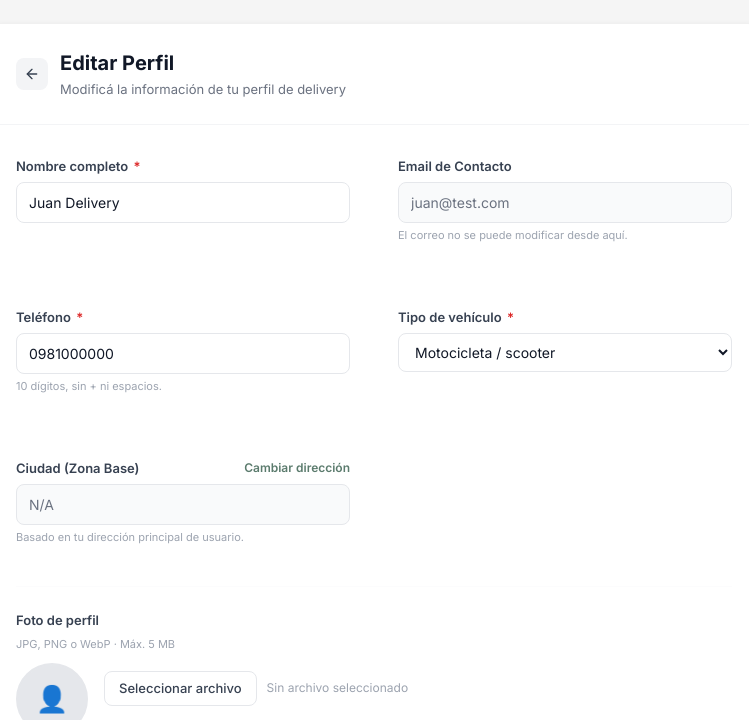
it: DeliveryEditProfilePage › Validaciones › muestra error si se intenta guardar con nombre vacío
Clear the field showing "Juan Delivery" at coordinates (183, 202), box left=16, top=182, right=350, bottom=223
(page scrolled)
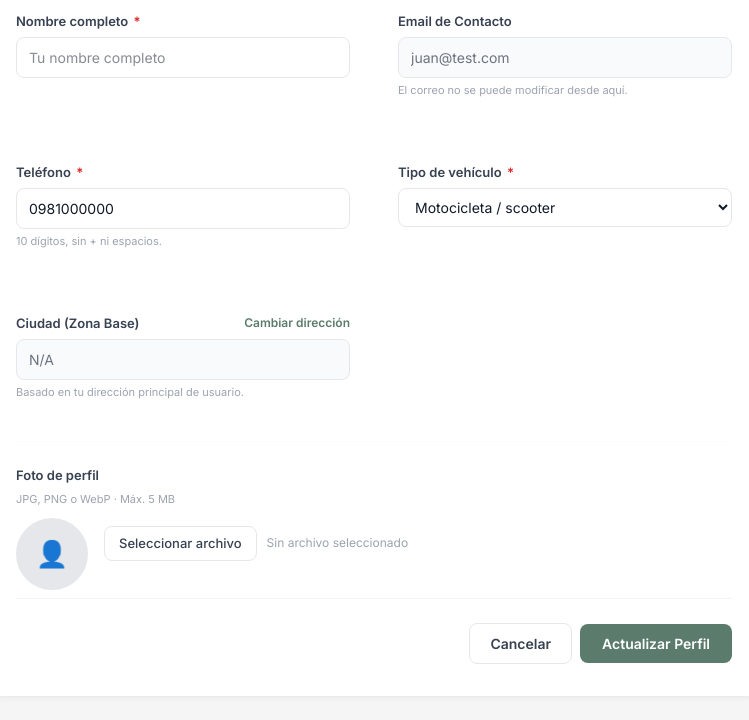
Click the button "Actualizar Perfil" at coordinates (656, 643), box left=580, top=624, right=732, bottom=662
(page scrolled)
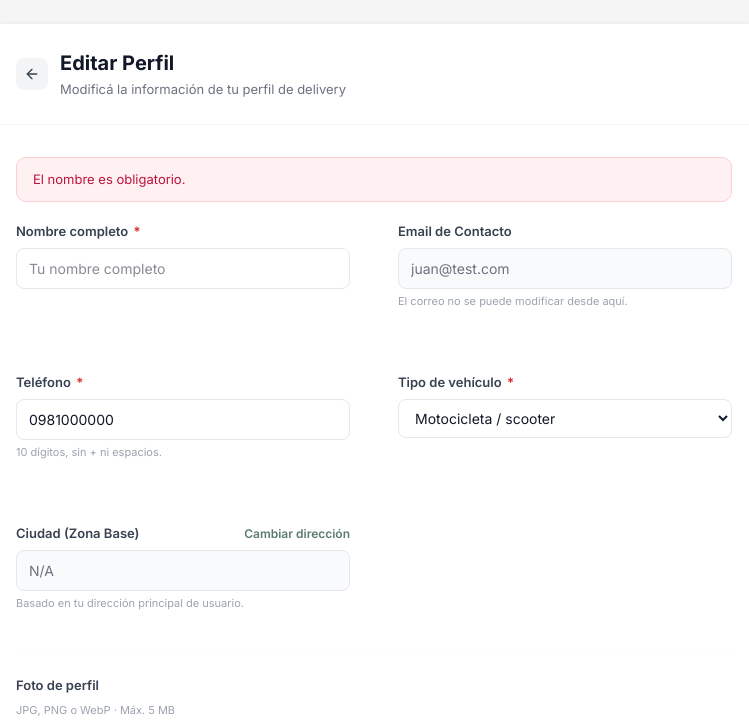
expect the text "El nombre es obligatorio." is shown: met, box left=16, top=156, right=732, bottom=202
